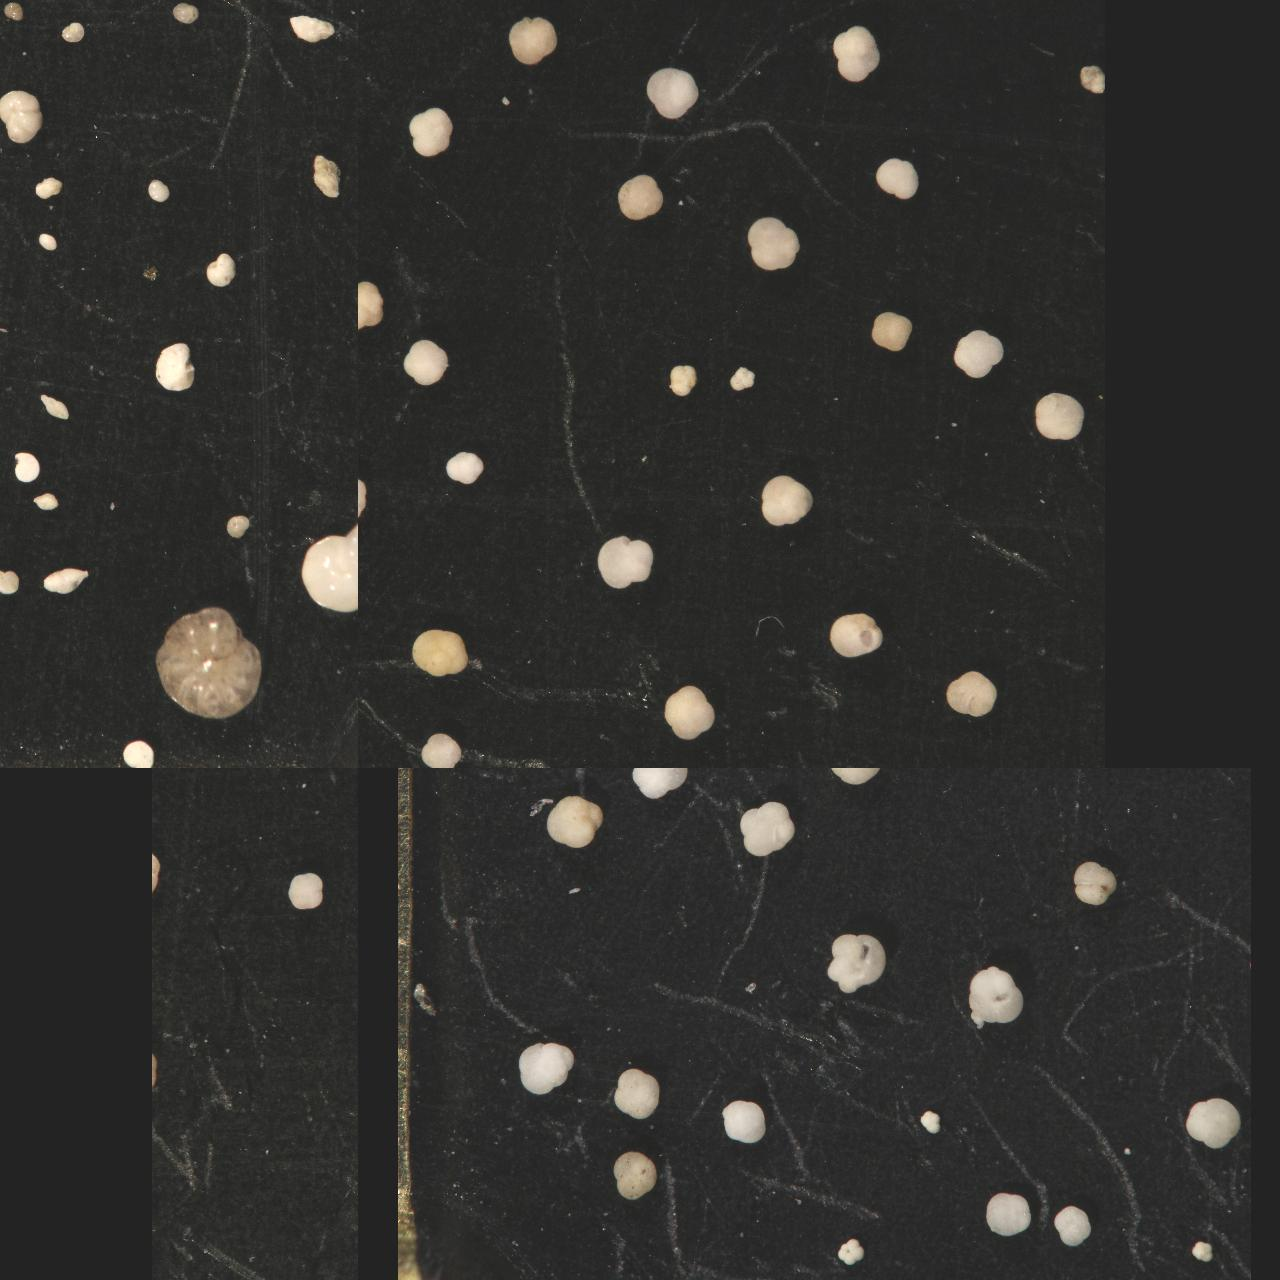calcareous: (154, 608, 264, 722), (297, 515, 358, 615), (0, 89, 45, 145), (155, 341, 195, 395), (287, 13, 334, 43), (312, 154, 342, 199), (43, 567, 90, 597), (205, 253, 237, 287), (0, 0, 36, 29), (225, 0, 274, 20), (122, 738, 155, 768), (40, 392, 70, 422), (14, 452, 41, 485), (172, 1, 202, 27), (34, 176, 64, 200), (72, 0, 109, 20), (0, 451, 18, 490), (225, 513, 251, 539), (0, 681, 18, 717), (281, 0, 316, 18), (59, 19, 83, 43), (33, 490, 59, 512), (148, 177, 170, 203), (0, 256, 16, 290), (0, 560, 18, 592), (0, 568, 19, 597), (222, 0, 253, 16), (0, 0, 23, 21), (0, 0, 14, 33), (0, 338, 14, 369), (34, 0, 61, 16), (38, 231, 56, 253), (0, 297, 15, 324), (0, 0, 20, 20), (339, 0, 358, 21), (266, 0, 297, 13), (0, 47, 13, 76), (158, 0, 186, 13), (0, 377, 13, 404), (0, 594, 13, 620), (0, 115, 12, 143), (0, 107, 12, 135), (0, 445, 12, 472), (0, 425, 12, 451), (0, 0, 19, 15), (0, 682, 12, 706), (0, 206, 11, 232), (56, 0, 79, 12), (0, 182, 11, 206), (12, 0, 34, 11), (0, 0, 15, 14), (0, 287, 9, 309), (0, 0, 12, 18), (0, 0, 11, 16), (0, 0, 13, 12), (0, 0, 12, 13)
planktic: (825, 933, 887, 995), (967, 965, 1024, 1029), (737, 799, 797, 858), (517, 1041, 576, 1097), (595, 536, 654, 591), (747, 215, 802, 272), (546, 795, 604, 850), (1185, 1096, 1241, 1151), (662, 685, 716, 742), (760, 474, 817, 527), (646, 67, 701, 122), (410, 627, 468, 679), (831, 23, 881, 82), (821, 768, 896, 805), (945, 668, 999, 720), (951, 328, 1005, 380), (828, 610, 883, 660), (613, 1065, 661, 1121), (617, 172, 666, 224), (508, 15, 557, 67), (612, 1149, 658, 1203), (1034, 393, 1084, 440), (985, 1190, 1033, 1238), (402, 339, 449, 388), (408, 107, 454, 157), (1073, 860, 1119, 908), (721, 1099, 767, 1145), (629, 768, 689, 802), (870, 309, 914, 353), (876, 157, 920, 200), (1054, 1204, 1092, 1248), (155, 768, 215, 796), (624, 768, 680, 797), (286, 873, 324, 913), (420, 731, 461, 768), (444, 449, 484, 485), (828, 768, 883, 794), (286, 768, 340, 794), (358, 280, 383, 332), (358, 469, 382, 523), (745, 768, 796, 794), (720, 768, 772, 792), (1007, 768, 1056, 794), (654, 0, 702, 25), (309, 768, 355, 794), (558, 768, 605, 791), (668, 363, 697, 399), (151, 768, 188, 794), (881, 0, 926, 20), (783, 768, 823, 789), (1144, 768, 1184, 789), (1006, 768, 1046, 788), (729, 365, 756, 394), (837, 1237, 863, 1267), (1078, 64, 1103, 95), (905, 768, 942, 787), (1058, 768, 1094, 788), (919, 1110, 941, 1137), (1191, 1239, 1212, 1266), (1225, 768, 1250, 783), (252, 768, 278, 782), (1197, 768, 1225, 781), (1001, 768, 1026, 779)
